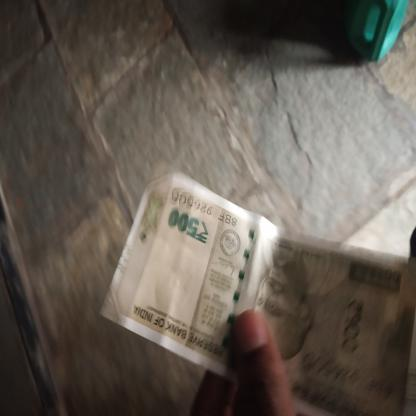New500Front: (116, 173, 415, 415)
